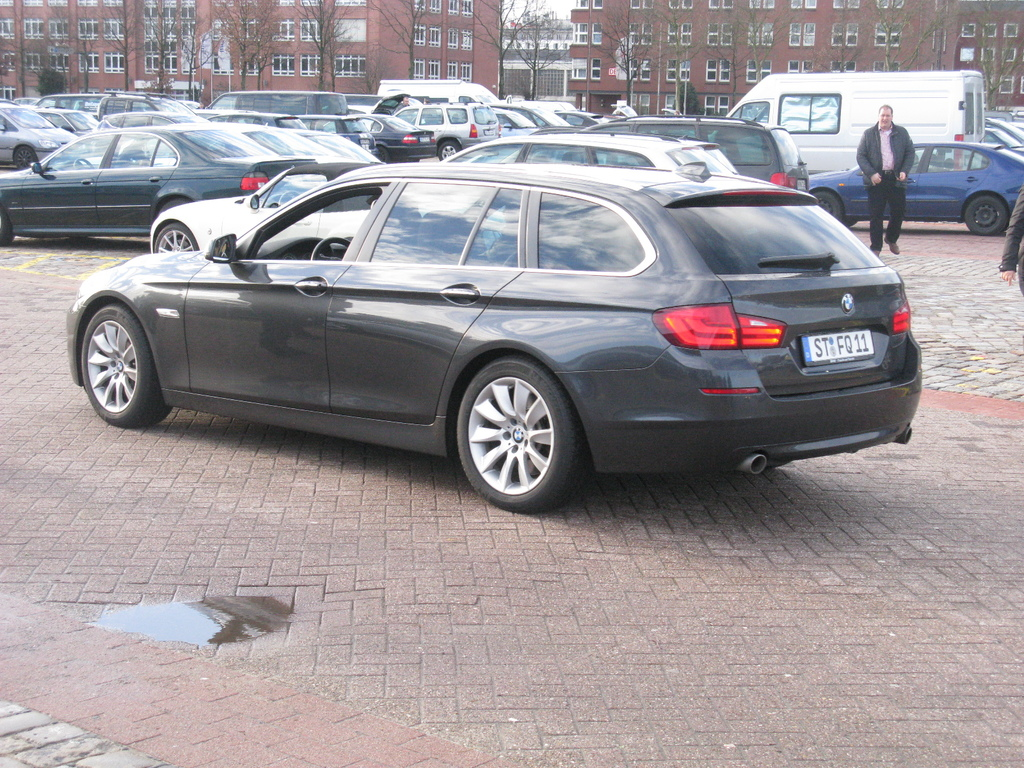license plate: (798, 337, 877, 363)
